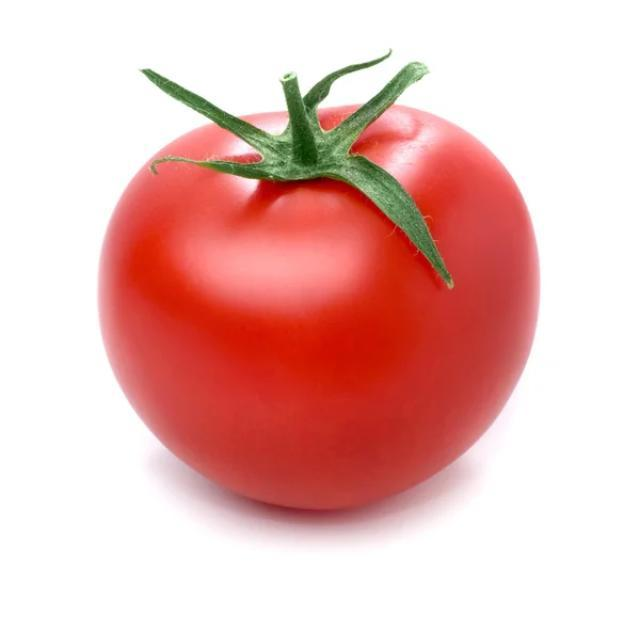kirmizi: (90, 56, 544, 530)
